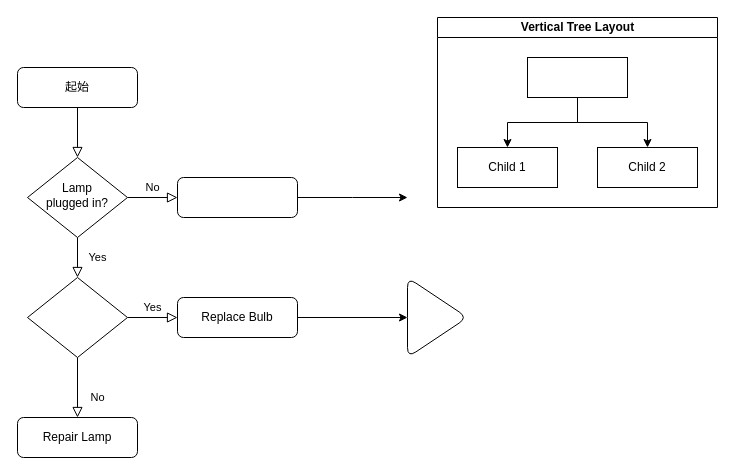
This 735x475 diagram has some shape labels left out. The shapes that lost their labels are listed below. From the top down, each one's centre as x and y in pixels, then its label:
At (x=577, y=77): "Root".
At (x=237, y=197): "Plug in lamp".
At (x=77, y=317): "Bulb burned out?".
